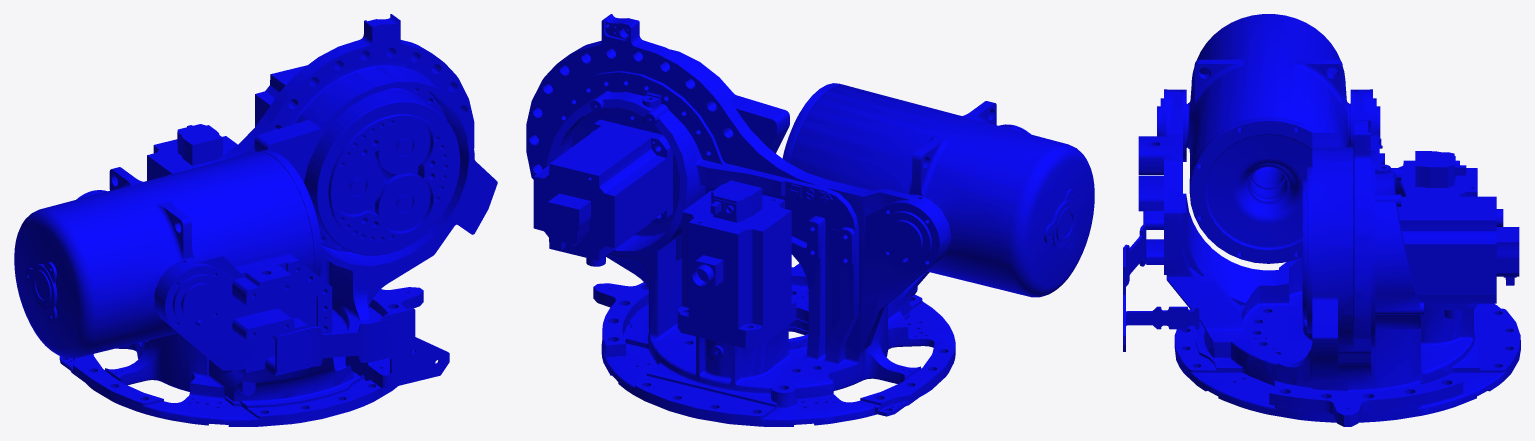
Rendered from es165d_S_AXIS.dae.
The picture shows the model from 3 angles, left to right: view 1: azimuth 30°, elevation 25°; view 2: azimuth 150°, elevation 25°; view 3: azimuth 270°, elevation 25°; orthographic projection. The views are drawn at different scales.
Visible parts, largest first — view 1: node; view 2: node; view 3: node.
Part boxes in pixels (<box>): node: <box>14,14,497,426</box>; node: <box>526,14,1094,426</box>; node: <box>1123,14,1520,426</box>.
Size of the model in its own units: 1.09 by 0.7807 by 0.6375.
